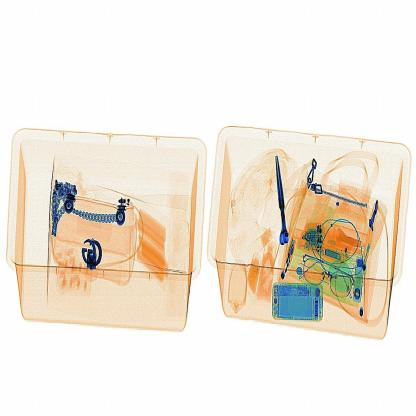gun: (274, 147, 296, 252)
